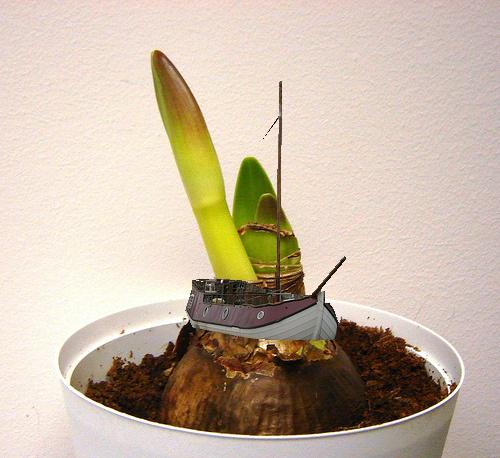tampered: (186, 82, 346, 340)
